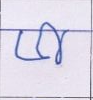i_matra: (42, 21, 67, 64)
